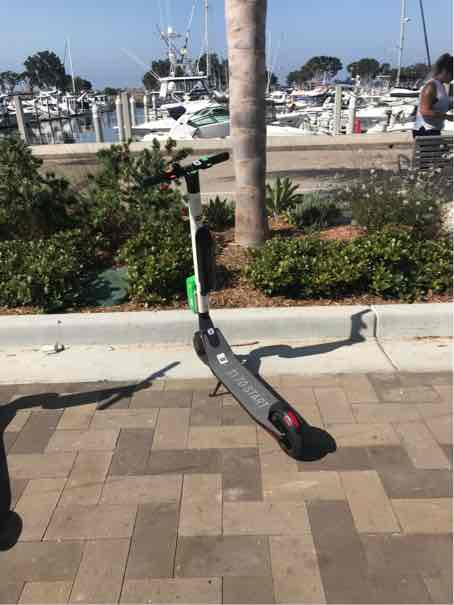scooter: (121, 137, 325, 468)
